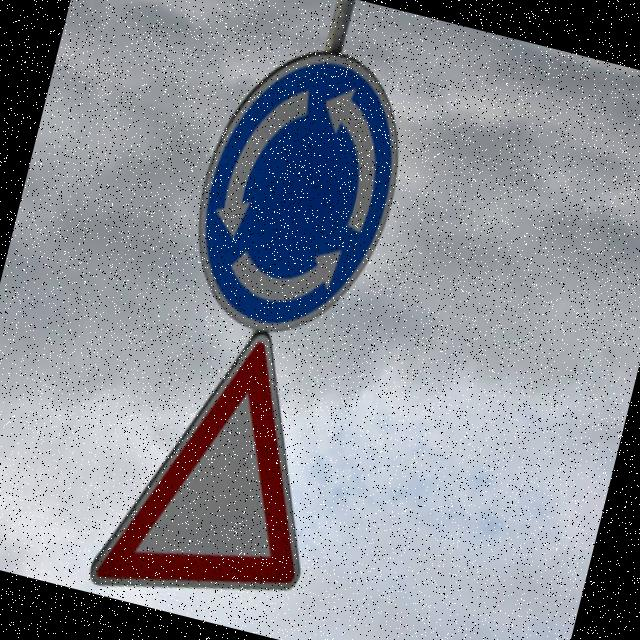round_about: (162, 21, 428, 360)
